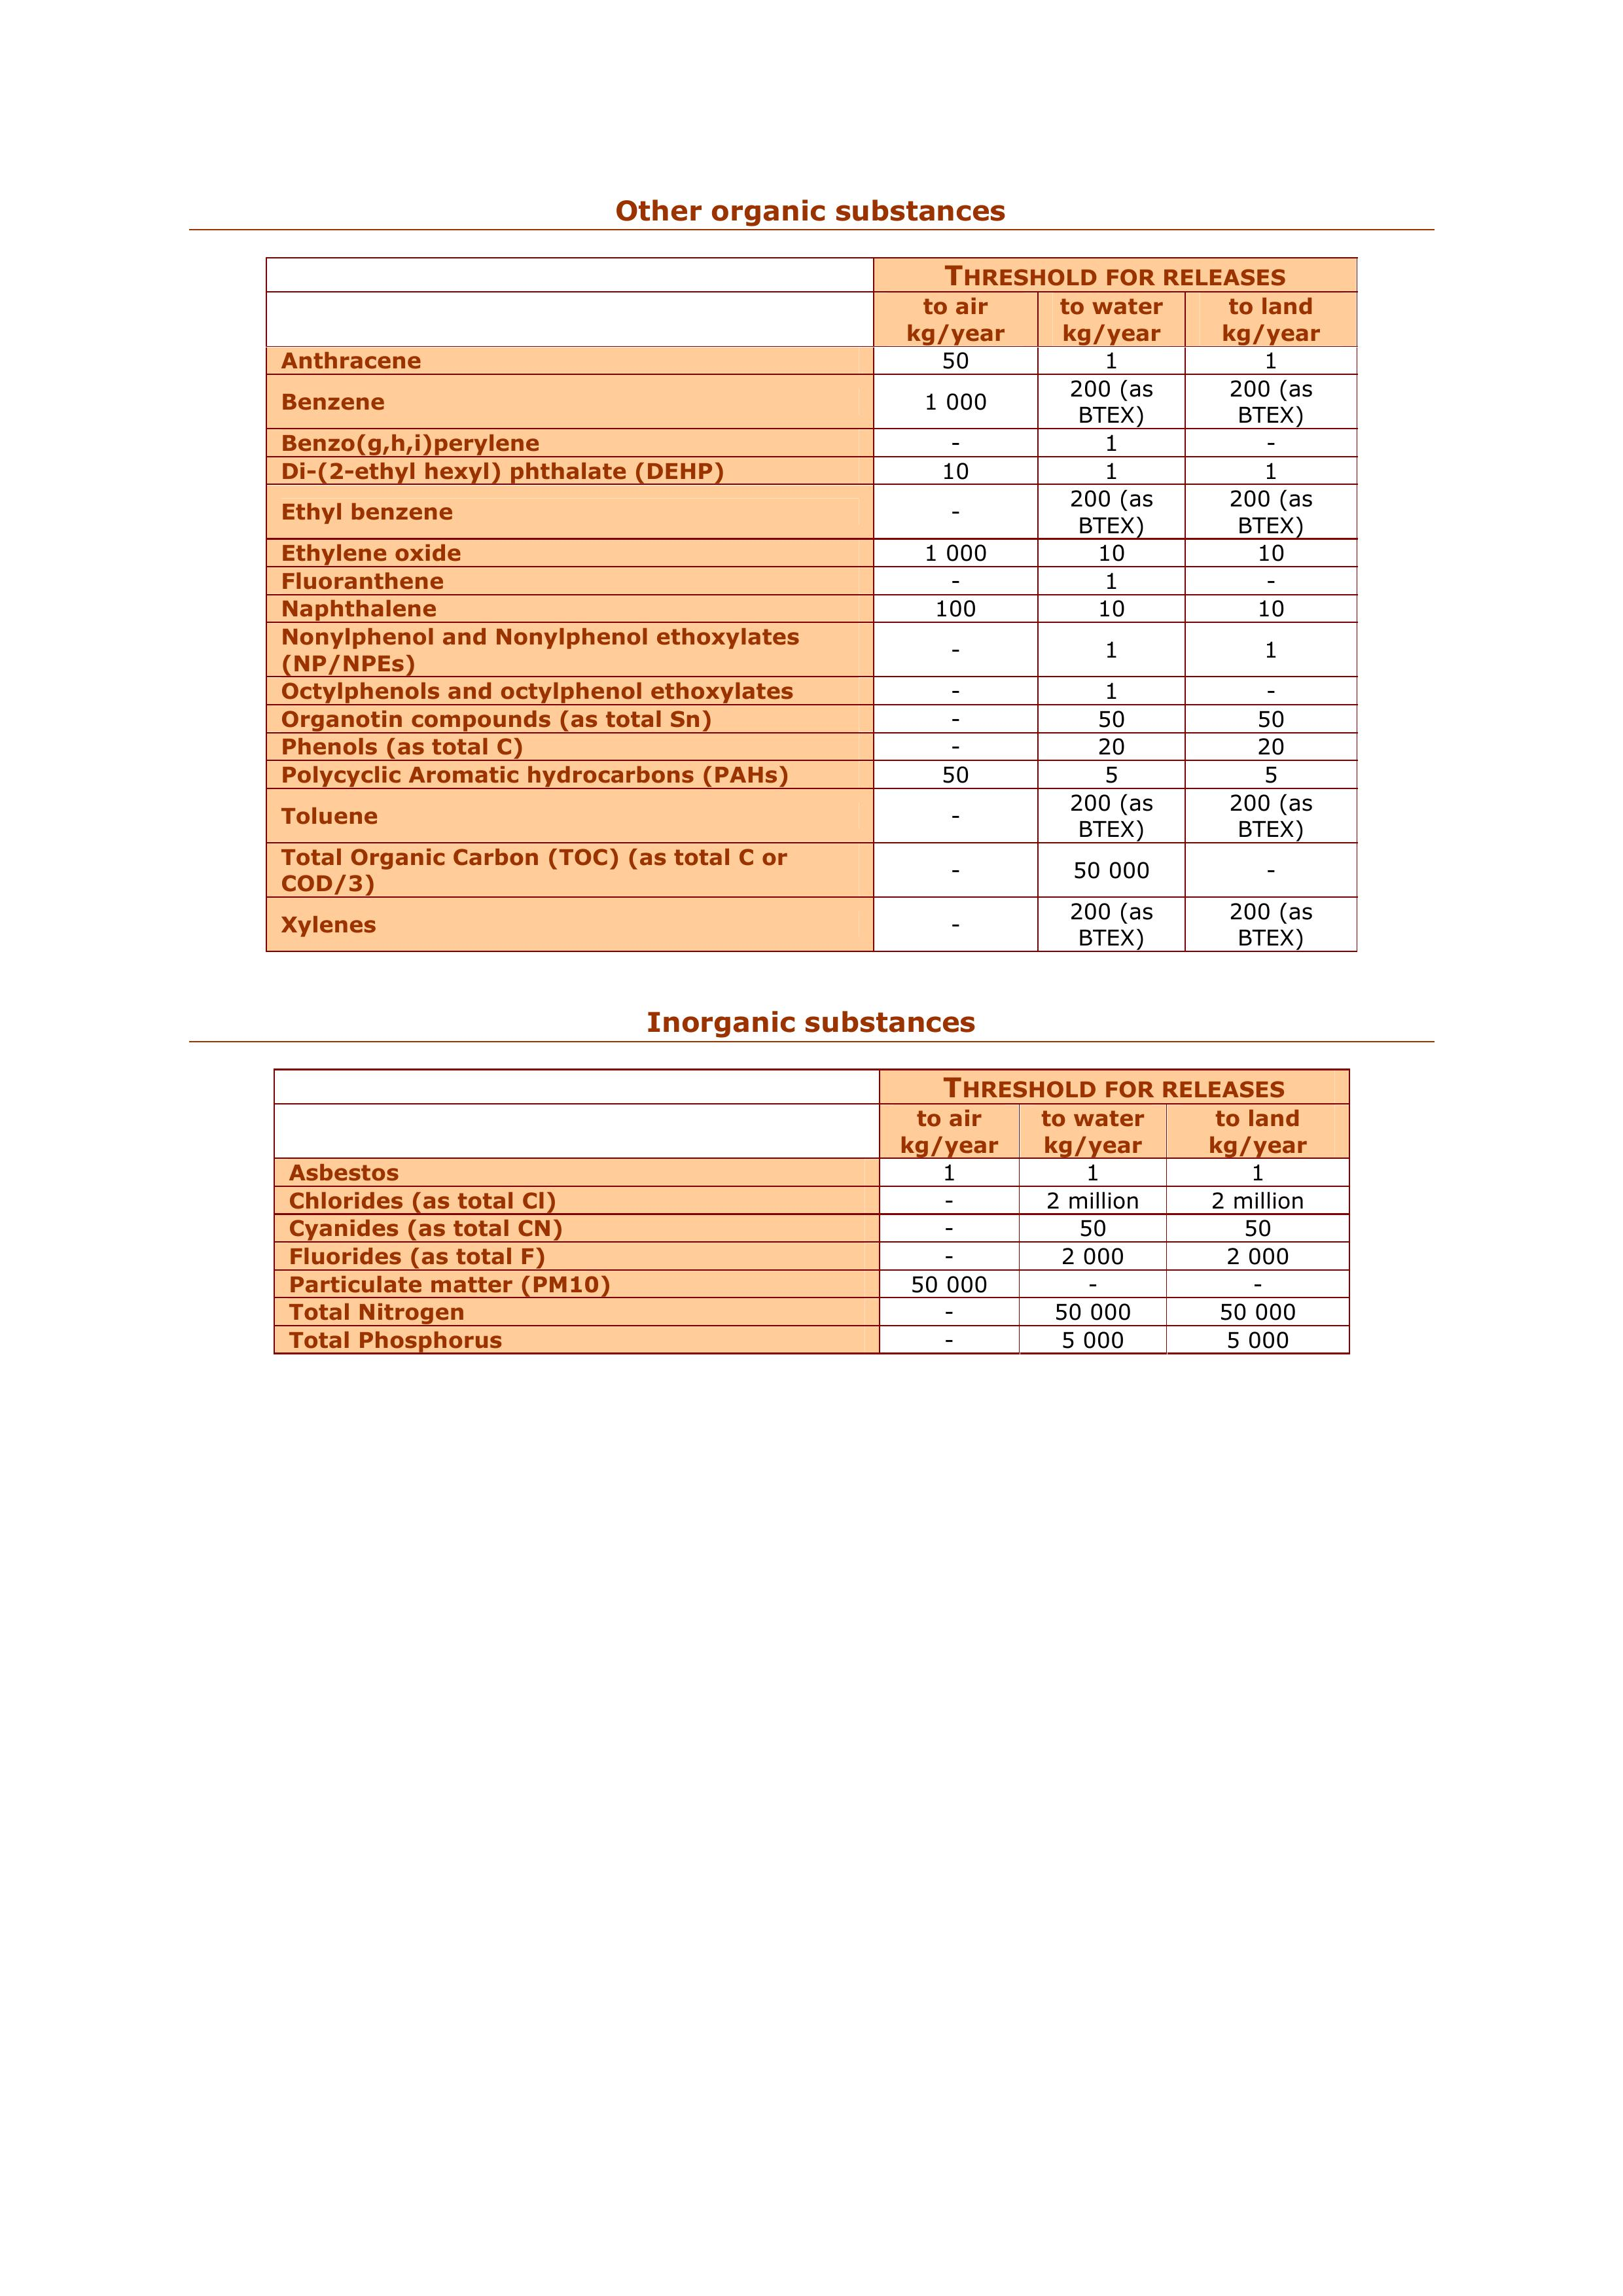table: (269, 1057, 1370, 1373)
